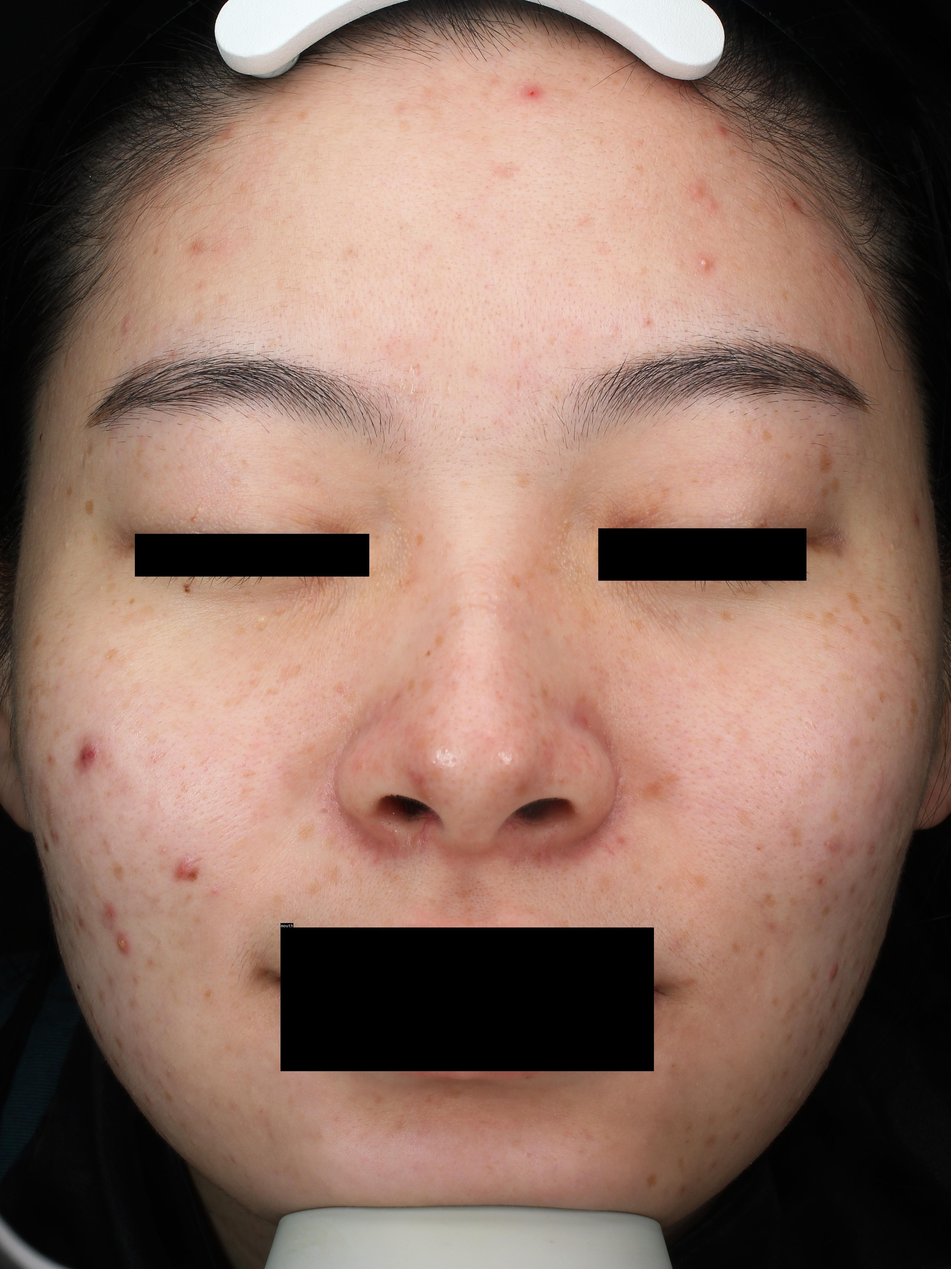atrophic_scar: (512, 1137, 530, 1158), (465, 365, 486, 380), (576, 217, 594, 228), (544, 334, 558, 346), (774, 769, 789, 779), (198, 755, 211, 766), (805, 719, 815, 733), (264, 688, 279, 697), (412, 363, 421, 375), (318, 807, 329, 815), (516, 378, 521, 393), (151, 246, 158, 255), (431, 409, 438, 418)
closed_comedo: (256, 614, 271, 627), (603, 330, 618, 341), (209, 186, 219, 197), (636, 266, 648, 275), (162, 848, 169, 854), (443, 748, 449, 754), (431, 760, 437, 766), (63, 540, 68, 547), (891, 543, 896, 549), (185, 1100, 190, 1105)
hypertrophic_scar: (208, 814, 225, 825)
melasma: (122, 605, 159, 631), (846, 592, 869, 628), (273, 663, 304, 683), (813, 542, 848, 559), (223, 692, 248, 714), (290, 513, 324, 529), (579, 608, 598, 633), (819, 439, 832, 473), (99, 646, 119, 668), (407, 735, 430, 751), (752, 519, 768, 542), (430, 628, 450, 646), (735, 586, 758, 601), (516, 466, 530, 490), (821, 612, 838, 631), (837, 671, 859, 685), (249, 659, 268, 674), (539, 686, 551, 708), (888, 615, 903, 632), (28, 631, 43, 648), (420, 678, 434, 696), (513, 782, 528, 798), (234, 621, 250, 636), (869, 638, 883, 655), (630, 619, 644, 634), (909, 695, 919, 716), (399, 119, 413, 134), (836, 624, 853, 636), (823, 633, 834, 651), (412, 532, 425, 547), (511, 575, 523, 591), (547, 561, 559, 576), (530, 703, 542, 718), (875, 582, 885, 600), (135, 438, 143, 460), (83, 499, 92, 518), (407, 671, 415, 692), (759, 432, 774, 443), (447, 604, 462, 615), (426, 705, 439, 717), (830, 476, 839, 492), (105, 581, 116, 594), (632, 646, 642, 660), (521, 633, 530, 648), (54, 609, 65, 620), (56, 657, 67, 668), (90, 532, 99, 545), (86, 442, 93, 458), (723, 610, 732, 622), (782, 287, 789, 302), (805, 611, 816, 620), (230, 477, 241, 486), (65, 621, 76, 630), (819, 486, 827, 498), (127, 596, 136, 606), (190, 515, 199, 525), (58, 634, 66, 644), (558, 614, 564, 626), (906, 593, 912, 604), (67, 486, 73, 497), (239, 460, 248, 467), (525, 670, 530, 678), (467, 706, 472, 710)
nevus: (181, 582, 191, 593), (425, 650, 432, 658), (38, 433, 44, 442)
other: (366, 499, 415, 594), (551, 513, 589, 599)
papule: (76, 738, 104, 774), (175, 857, 199, 881), (524, 83, 543, 101), (827, 961, 840, 981), (691, 185, 706, 198), (105, 903, 116, 918), (131, 973, 142, 987), (209, 886, 222, 897), (718, 125, 728, 135), (122, 320, 130, 330), (708, 201, 716, 210), (859, 966, 865, 977), (733, 1131, 740, 1140), (709, 1160, 716, 1169), (914, 516, 919, 523)
pustule: (115, 931, 132, 956), (697, 256, 710, 271)
